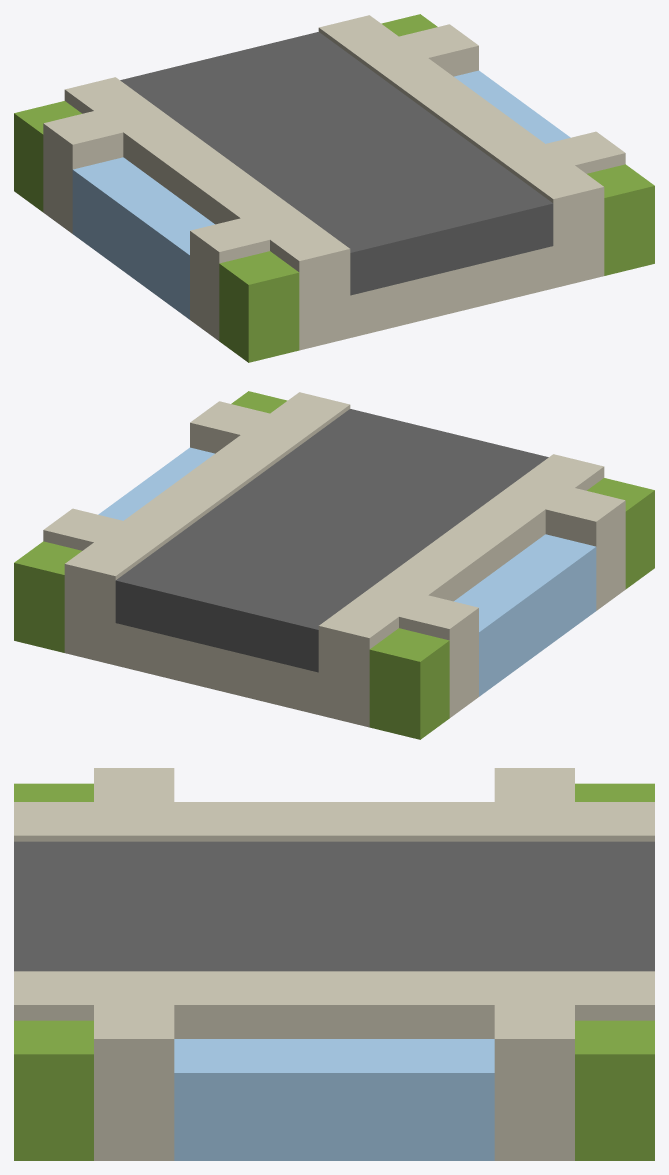
The model's file is roadTile_217.obj.
3 renders of one model, top to bottom at view 1: azimuth 30°, elevation 25°; view 2: azimuth 150°, elevation 25°; view 3: azimuth 270°, elevation 25°, orthographic. The views are drawn at different scales.
Visible parts, largest first — view 1: roadTile_217; view 2: roadTile_217; view 3: roadTile_217.
Part boxes in pixels (x1=…): roadTile_217: x1=14, y1=14, x2=654, y2=362; roadTile_217: x1=14, y1=391, x2=654, y2=739; roadTile_217: x1=14, y1=768, x2=654, y2=1160.
Bounding box in the file's own units: 3 × 0.63 × 3.
